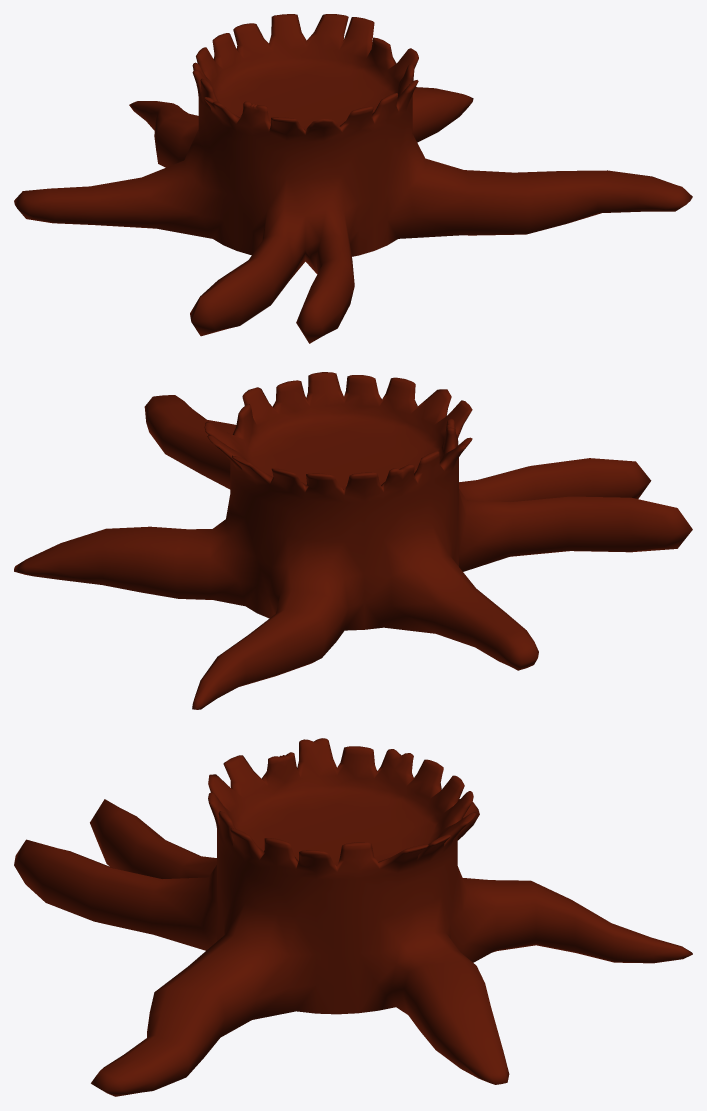
Rendered from tree_3.FBX.
The picture shows the model from 3 angles, top to bottom: view 1: azimuth 30°, elevation 25°; view 2: azimuth 150°, elevation 25°; view 3: azimuth 270°, elevation 25°; orthographic projection. The views are drawn at different scales.
Visible parts, largest first — view 1: Cylinder005; view 2: Cylinder005; view 3: Cylinder005.
Part boxes in pixels (bbox=[...]): Cylinder005: bbox=[14, 14, 692, 343]; Cylinder005: bbox=[14, 372, 692, 709]; Cylinder005: bbox=[14, 738, 692, 1096].
Size of the model in its own units: 1.35 by 0.3803 by 1.36.
